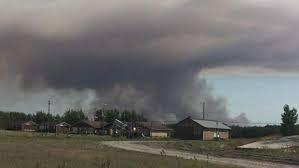yanwu: (0, 1, 299, 119)
